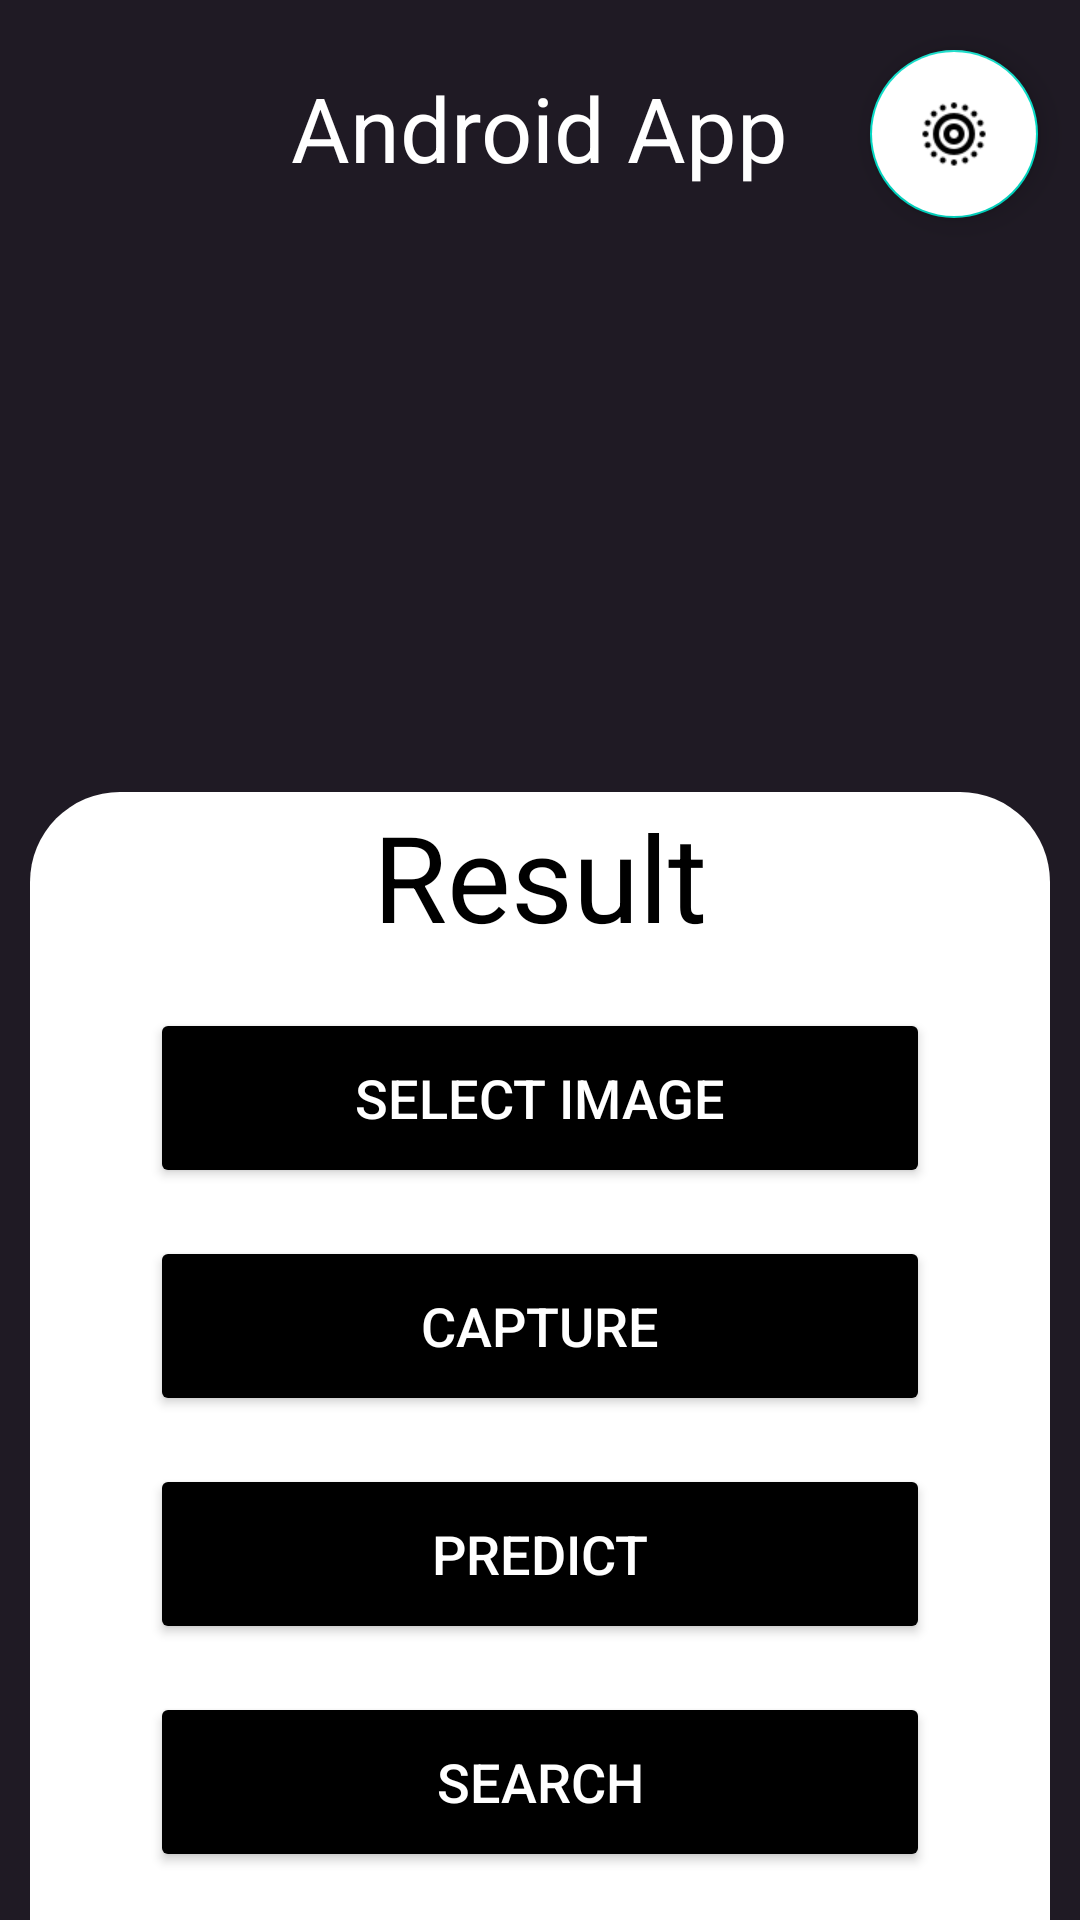

Icons on this 1080×1920 Android screen, each with the point to tap as (x=x, y=y):
live camera: (x=954, y=134)
